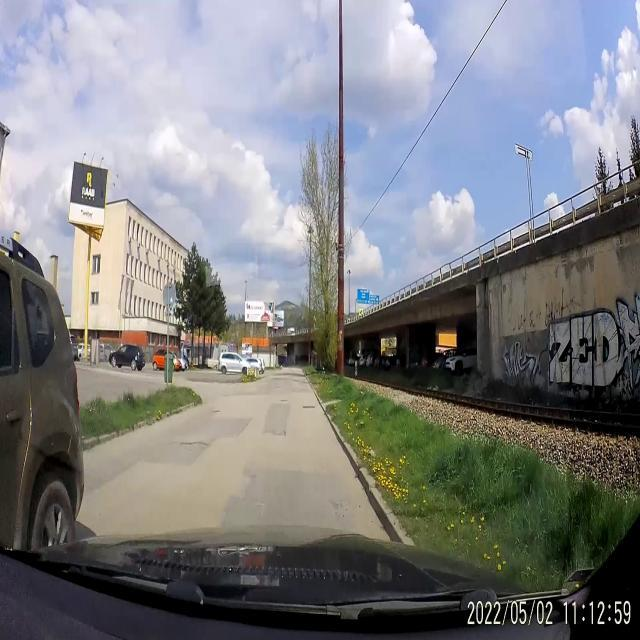Manhole: (300, 402, 318, 412)
Pothole: (178, 436, 210, 452), (211, 406, 222, 416), (279, 396, 289, 404)
